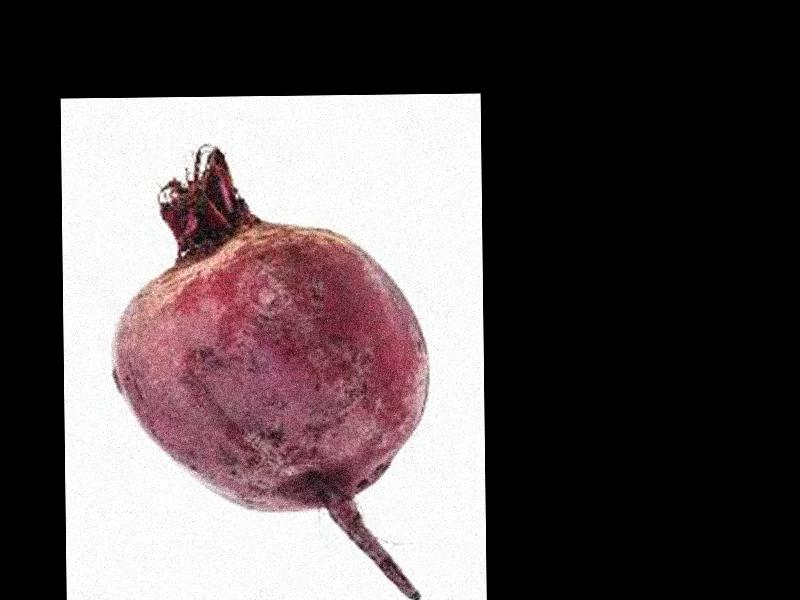Beet: (111, 143, 432, 600)
